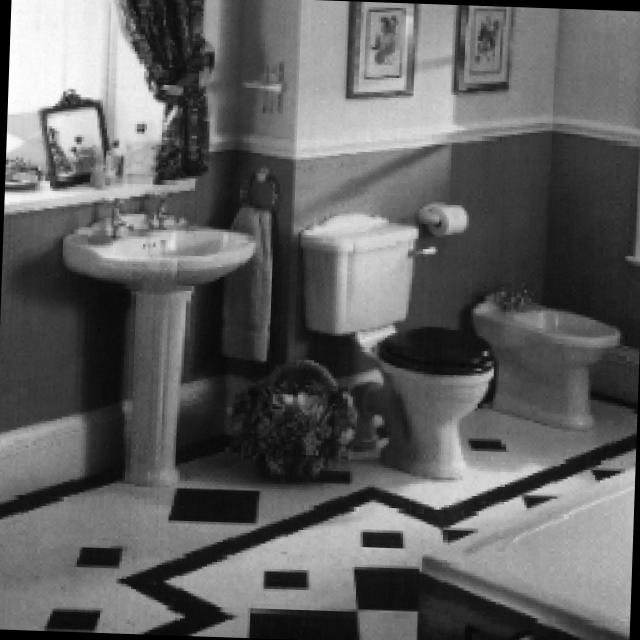2001: (5, 0, 160, 169)
bathtub: (414, 461, 630, 640)
bidet faucet: (468, 279, 617, 429)
bottle crop: (119, 119, 149, 170), (106, 137, 122, 177)
bouquet: (222, 354, 354, 477)
curtain crop: (114, 0, 210, 179)
floor -X: (0, 397, 630, 638)
mirror crop: (37, 86, 115, 183)
painting crop: (343, 1, 414, 93), (451, 4, 508, 89)
picture occluded: (35, 84, 110, 185)
sink basin: (59, 209, 247, 482)
sink occluded: (97, 189, 164, 233)
soap bottle: (80, 217, 108, 242)
toilet bowl: (293, 206, 493, 477), (298, 211, 491, 475)
toilet paper: (416, 199, 466, 232)
toothbrush: (243, 58, 281, 110)
towel basket: (221, 200, 269, 360)
towel ring: (232, 160, 277, 220)
